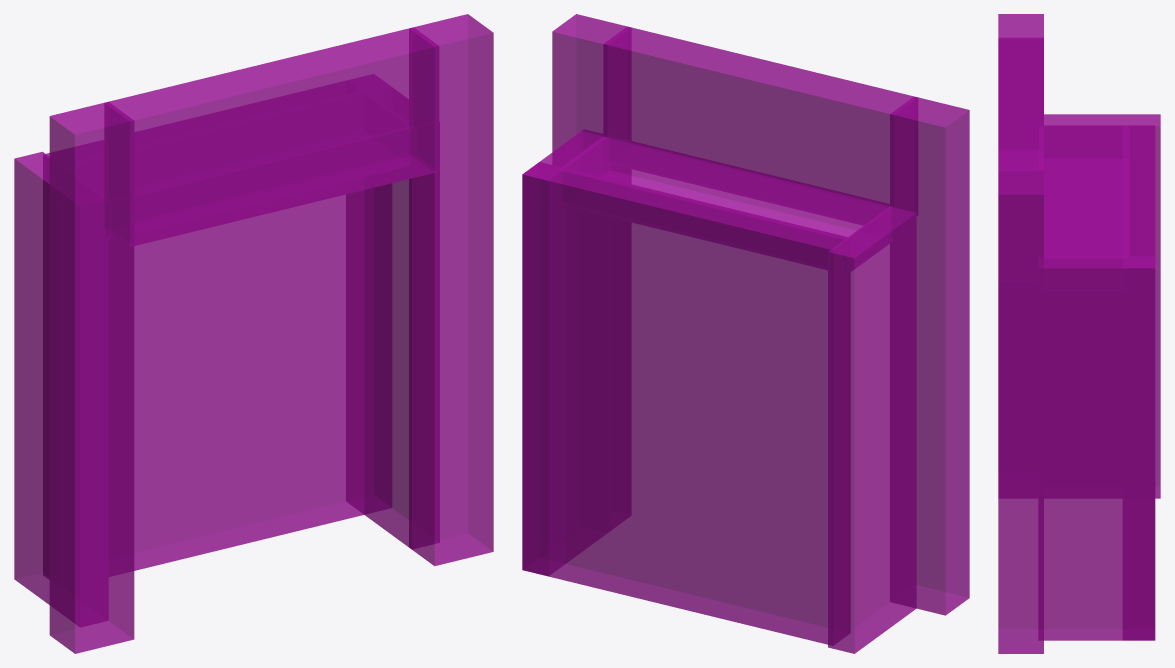
The model's file is SM_Bld_Wall_Alcove_04_Collision.fbx.
3 views of the same model, side by side, from view 1: azimuth 30°, elevation 25°; view 2: azimuth 150°, elevation 25°; view 3: azimuth 270°, elevation 25° (orthographic). The views are drawn at different scales.
Visible parts, largest first — view 1: SM_Bld_Wall_Alcove_04_Collision; view 2: SM_Bld_Wall_Alcove_04_Collision; view 3: SM_Bld_Wall_Alcove_04_Collision.
Part boxes in pixels (bbox=[...]): SM_Bld_Wall_Alcove_04_Collision: bbox=[14, 14, 493, 653]; SM_Bld_Wall_Alcove_04_Collision: bbox=[522, 14, 969, 653]; SM_Bld_Wall_Alcove_04_Collision: bbox=[998, 14, 1160, 653].
Bounding box in the file's own units: 254 × 301 × 96.39.
